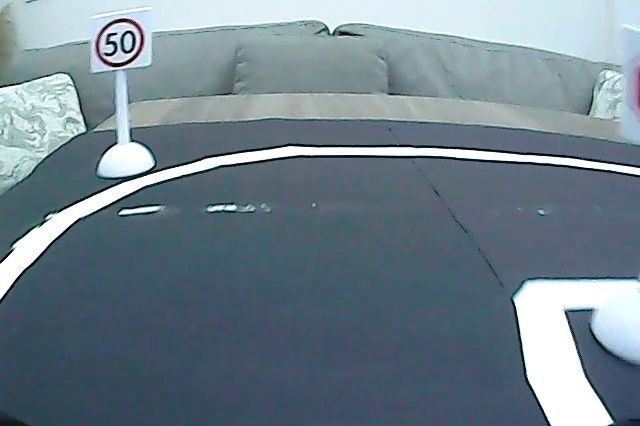speed limit 50: (93, 14, 146, 72)
